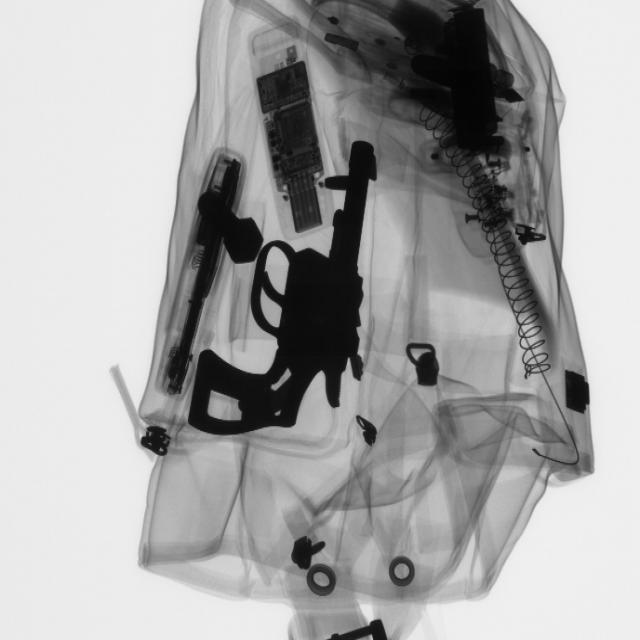GUN: (194, 135, 378, 431)
